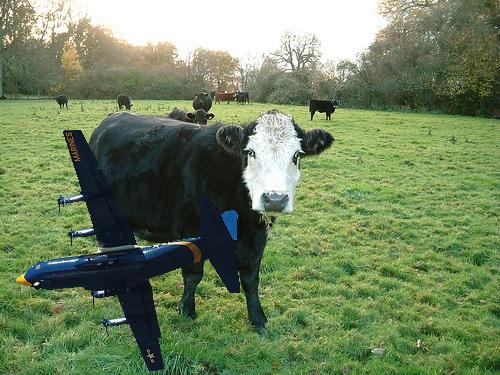tampered: (17, 131, 240, 371)
